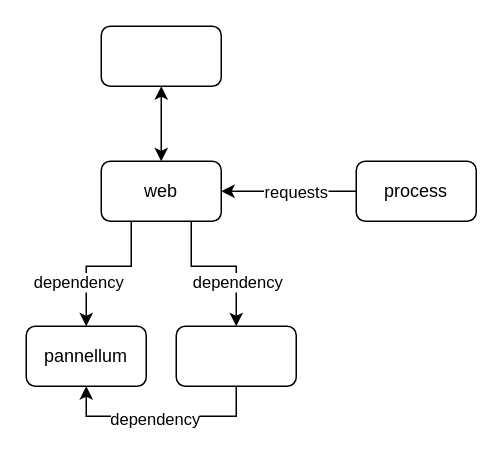
Some shapes in this 503 by 455 pixel diagram are drawn without their labels. Here are the shapes that lost their labels. From the top down, the box of each, then its label:
(100, 25, 221, 86): database
(175, 325, 296, 386): trailviewer
